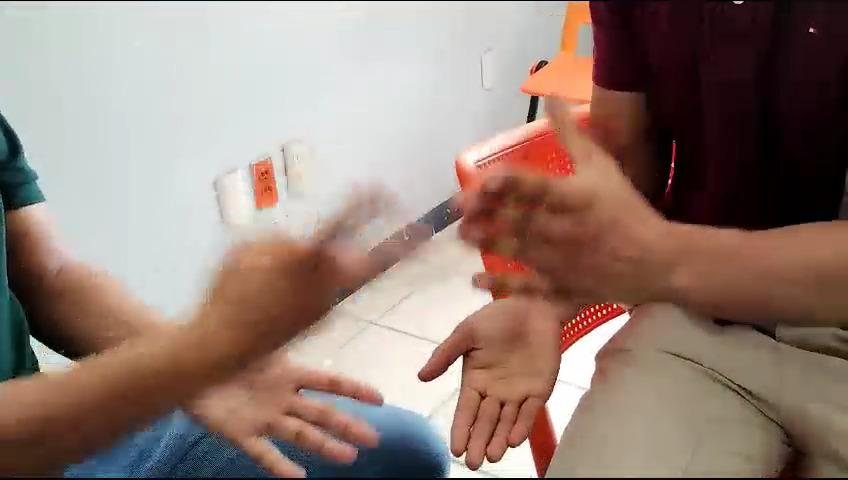Paper: (436, 83, 670, 320), (411, 300, 580, 474)
